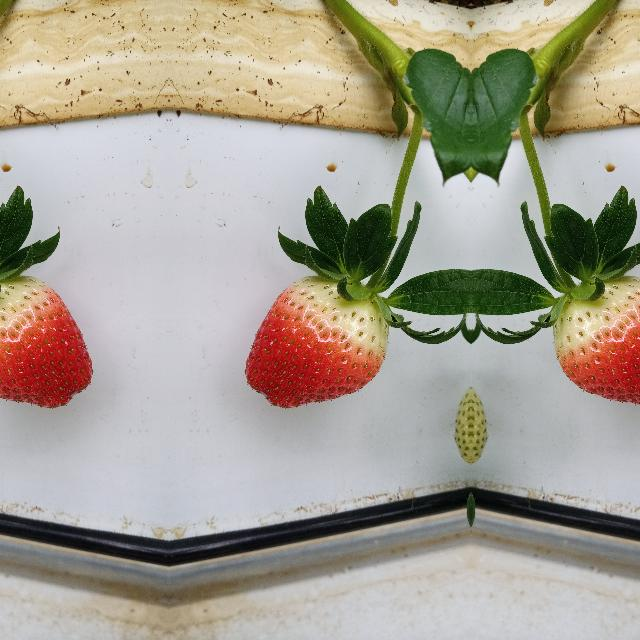Health_75: (242, 274, 388, 410), (0, 274, 94, 409), (552, 274, 640, 409)
